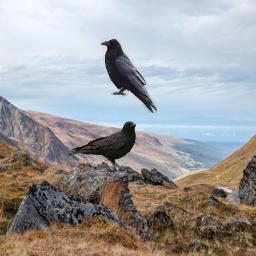Crow: (100, 38, 158, 114), (67, 121, 136, 171)
